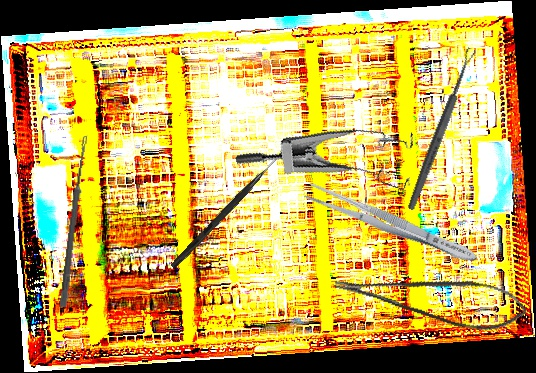Dressing Forceps: (301, 178, 482, 270)
Hook Surgical: (170, 149, 284, 271)
Micro Scissor: (332, 244, 531, 344)
Speculum: (234, 99, 428, 237)
Surgical Spoon: (405, 46, 478, 212), (59, 134, 89, 308)
